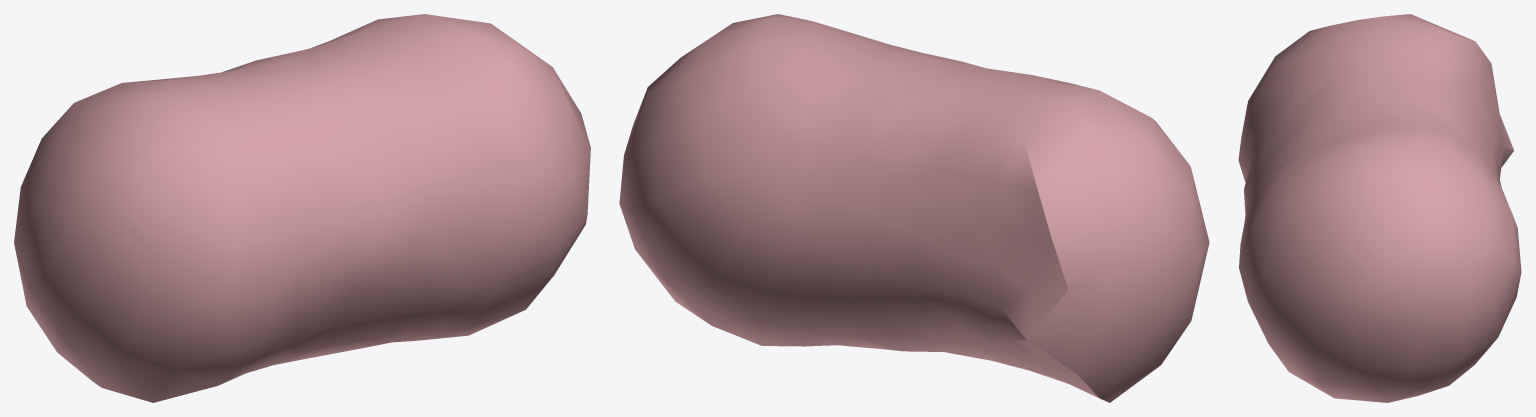
Rendered from fma53144-r_mm2101m.glb.
3 renders of one model, left to right at view 1: azimuth 30°, elevation 25°; view 2: azimuth 150°, elevation 25°; view 3: azimuth 270°, elevation 25°, orthographic. The views are drawn at different scales.
Visible parts, largest first — view 1: FMA53144-R_MM2101M; view 2: FMA53144-R_MM2101M; view 3: FMA53144-R_MM2101M.
Part boxes in pixels (bbox=[...]): FMA53144-R_MM2101M: bbox=[14, 14, 590, 402]; FMA53144-R_MM2101M: bbox=[619, 14, 1209, 402]; FMA53144-R_MM2101M: bbox=[1238, 14, 1521, 402].
Bounding box in the file's own units: 0.00795 × 0.00413 × 0.00419.
